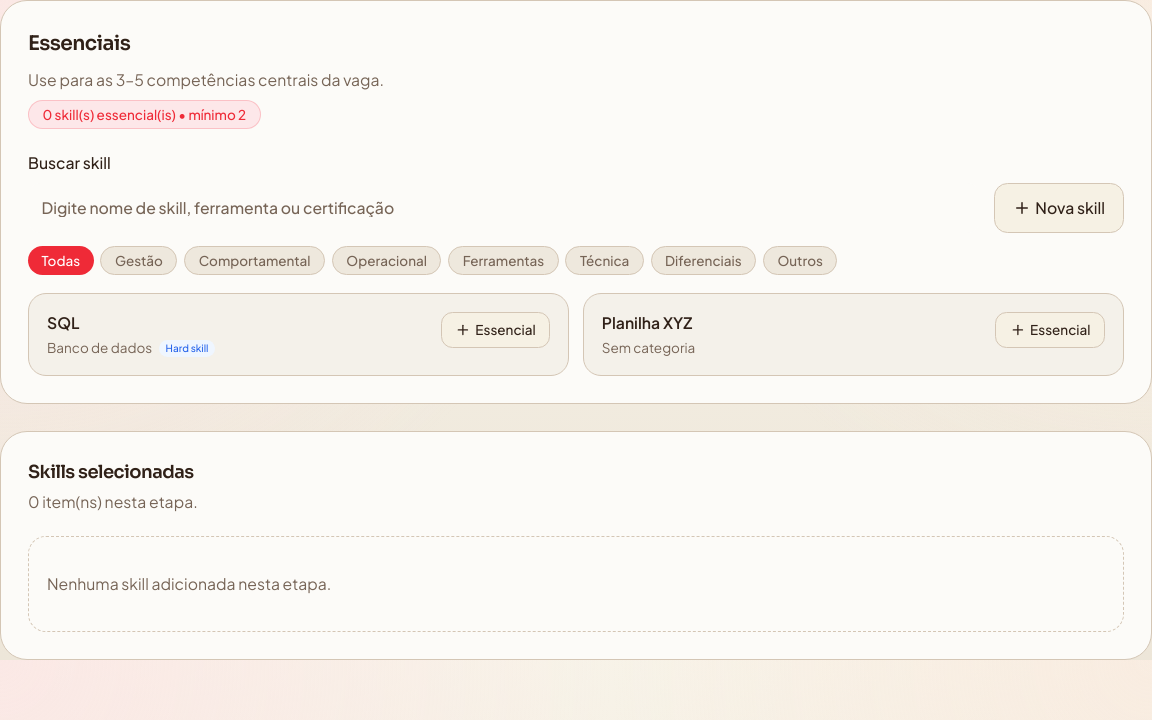
job skill steps › chip Outros exibe apenas skills sem match em nenhuma categoria específica
Click the button "Outros" at (800, 260), box [763,246,837,275]
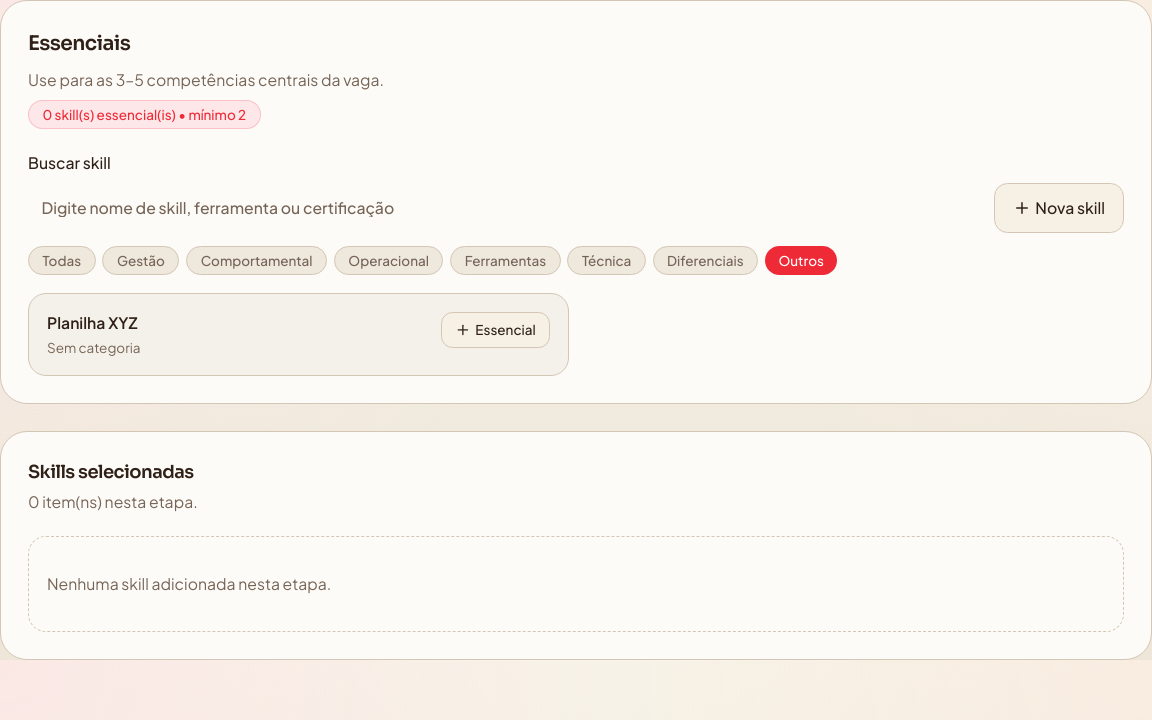
Expected: the text "Planilha XYZ" is shown, [47,313,138,332]
Expected: the text "SQL" is gone
